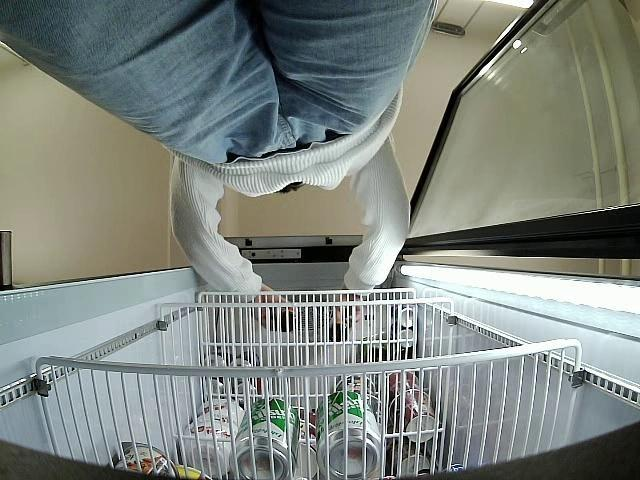17_vita500: (329, 312, 348, 343), (276, 307, 296, 332)
